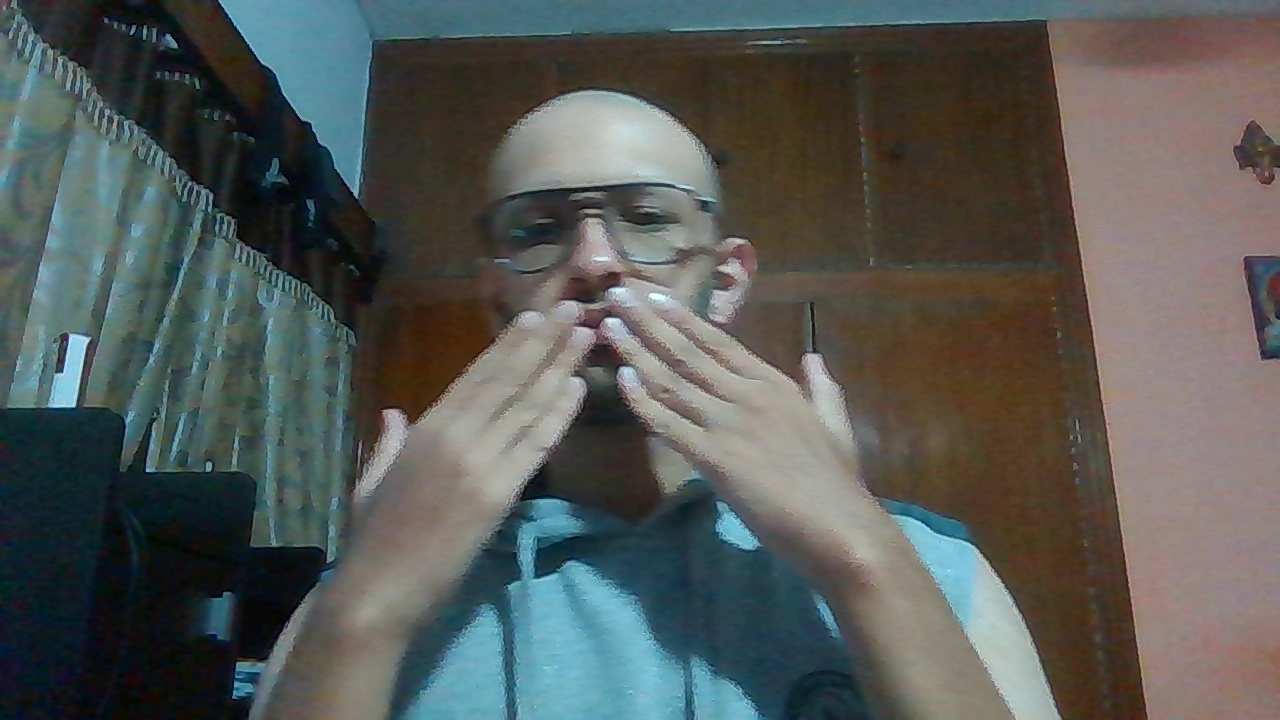Thank You: (332, 288, 891, 560)
